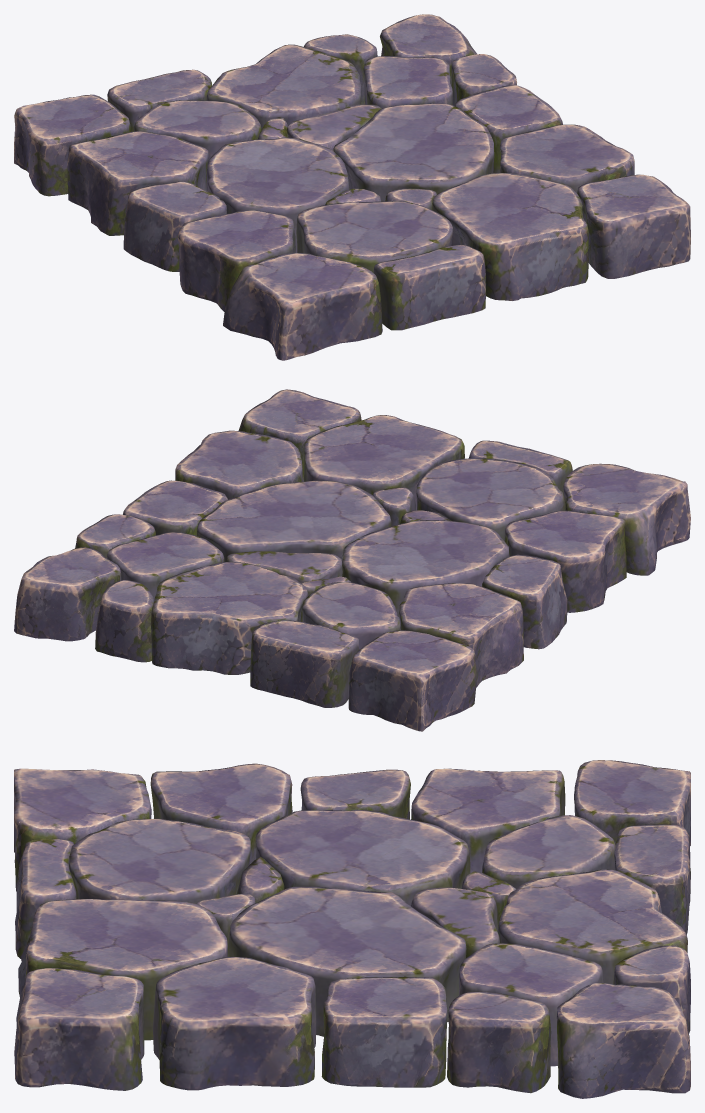
Rendered from flagstone-deck-v4.glb.
3 renders of one model, top to bottom at view 1: azimuth 30°, elevation 25°; view 2: azimuth 150°, elevation 25°; view 3: azimuth 270°, elevation 25°, orthographic. The views are drawn at different scales.
Size of the model in its own units: 0.9449 by 0.1191 by 1.
Materials: 1 (1 with a texture image).
